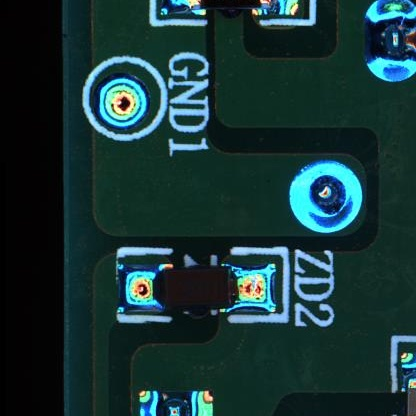spot: (289, 158, 363, 231), (361, 1, 416, 87), (93, 74, 150, 129)
